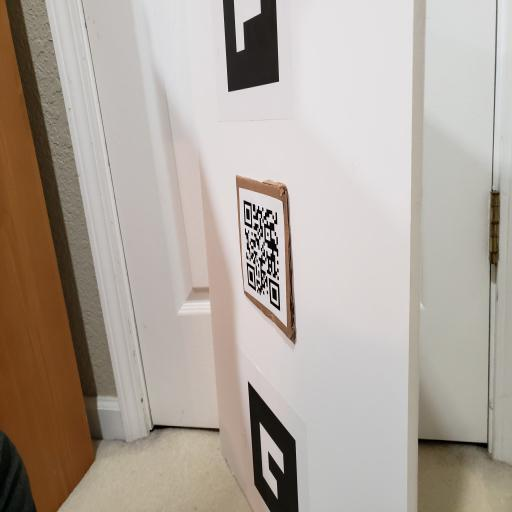qr_code: (243, 199, 281, 310)
